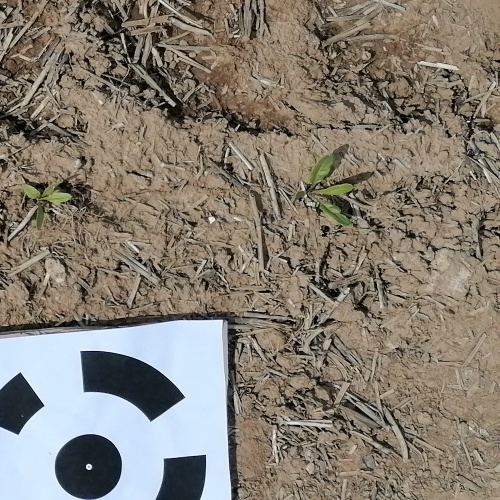beet: (300, 155, 353, 233), (21, 182, 71, 232)
